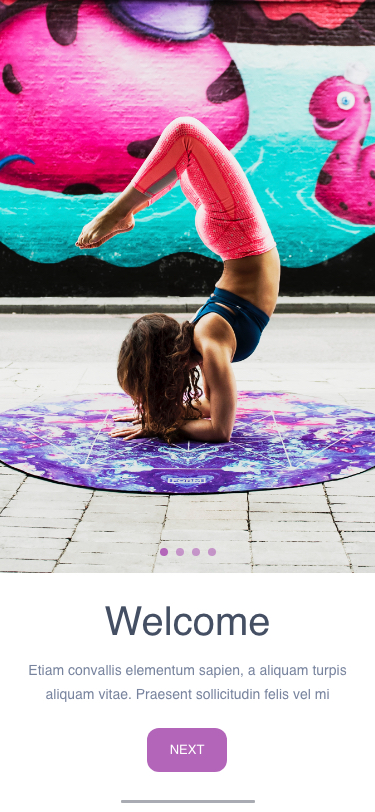Image: (1, 1, 375, 574)
PageIndicator: (160, 547, 217, 557)
Text: (29, 664, 347, 703), (105, 605, 270, 637)
TextButton: (147, 728, 228, 772)
